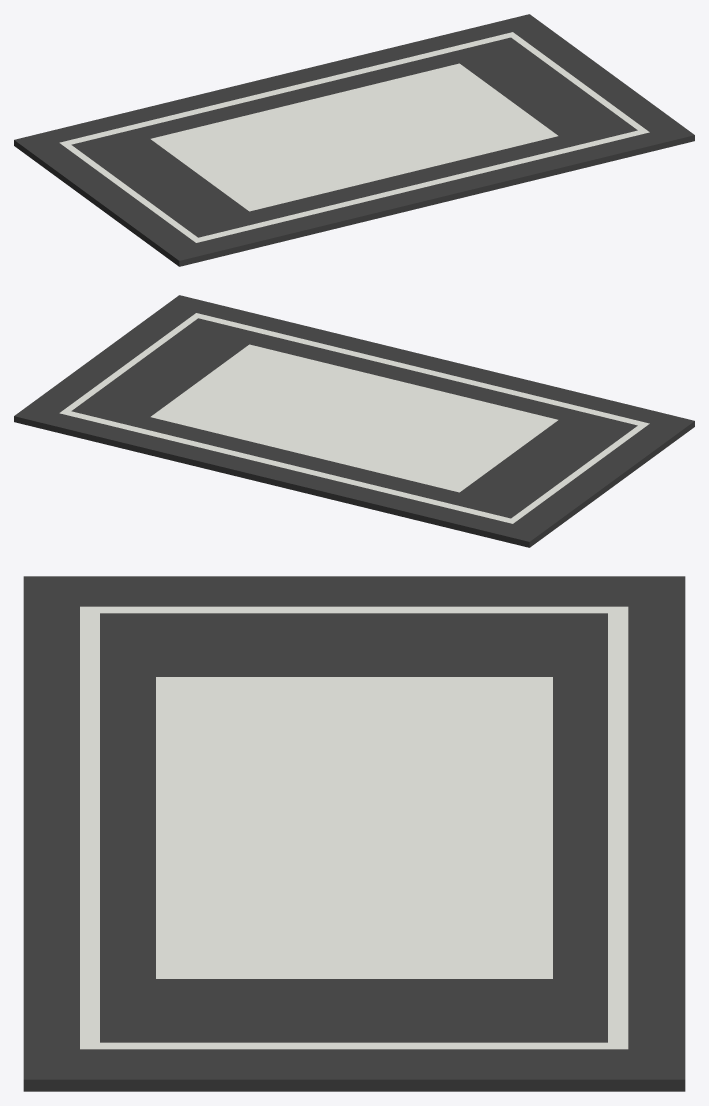
Rendered from Carpet_1A.fbx.
3 views of the same model, one above another, from view 1: azimuth 30°, elevation 25°; view 2: azimuth 150°, elevation 25°; view 3: azimuth 270°, elevation 25° (orthographic). The views are drawn at different scales.
Parts seen in each view (by area): view 1: pPlane10; view 2: pPlane10; view 3: pPlane10.
Boxes of the visible parts, left/top/right/bottom form: pPlane10: left=14, top=14, right=694, bottom=266; pPlane10: left=14, top=295, right=694, bottom=547; pPlane10: left=23, top=576, right=685, bottom=1091.
Size of the model in its own units: 4.5 by 0.05 by 2.5.
Materials: 1 (1 with a texture image).
